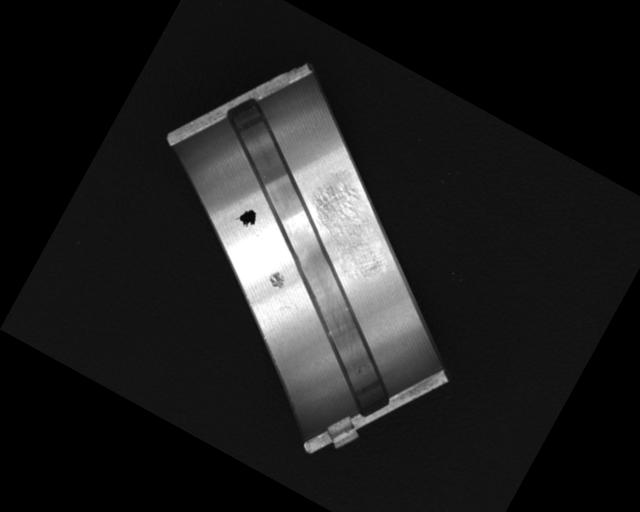blot: (232, 204, 261, 232)
bruise: (264, 268, 289, 292)
gap: (137, 94, 483, 421)
scratch: (287, 174, 407, 289)
